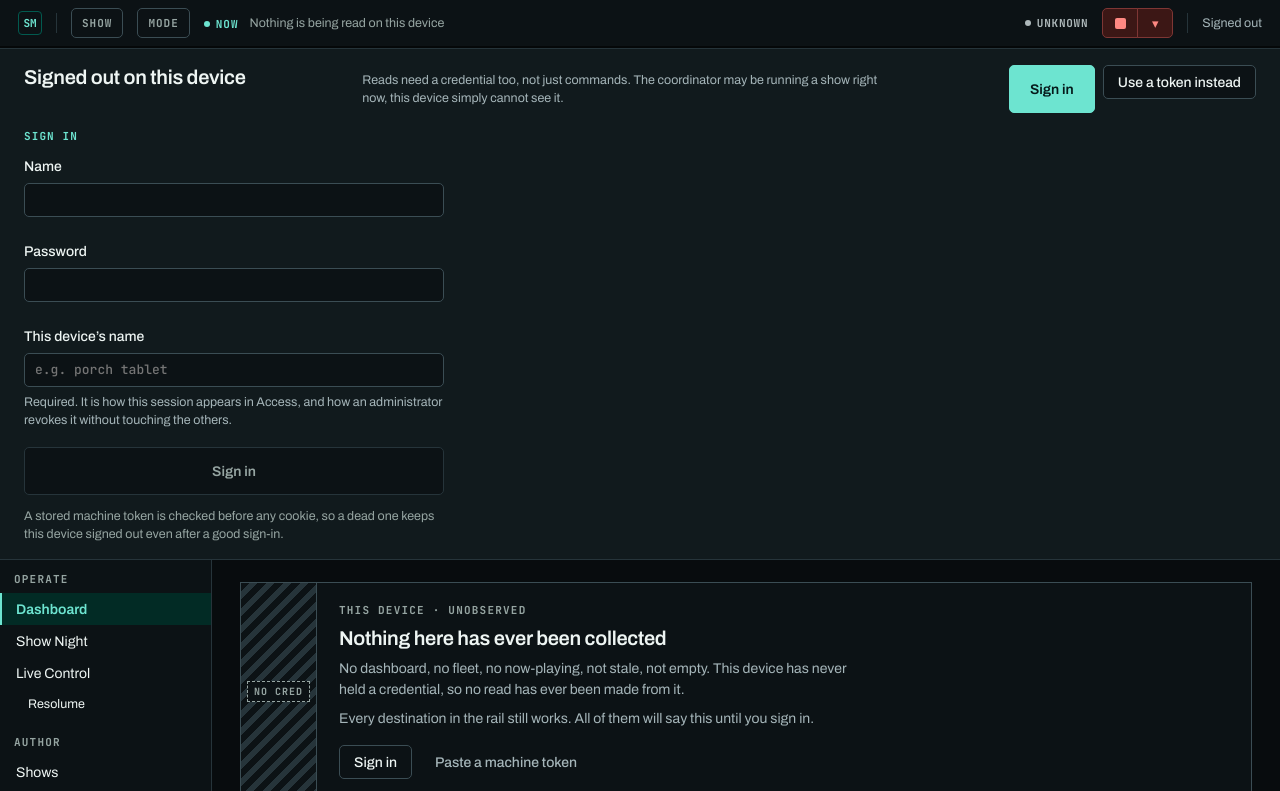
it: app shell › renders the rate-limit refusal as a headline naming the wait plus its explanation
Type "operator-a" into the field labelled "Name". click: {"x": 234, "y": 200}
box: [24,183,444,217]
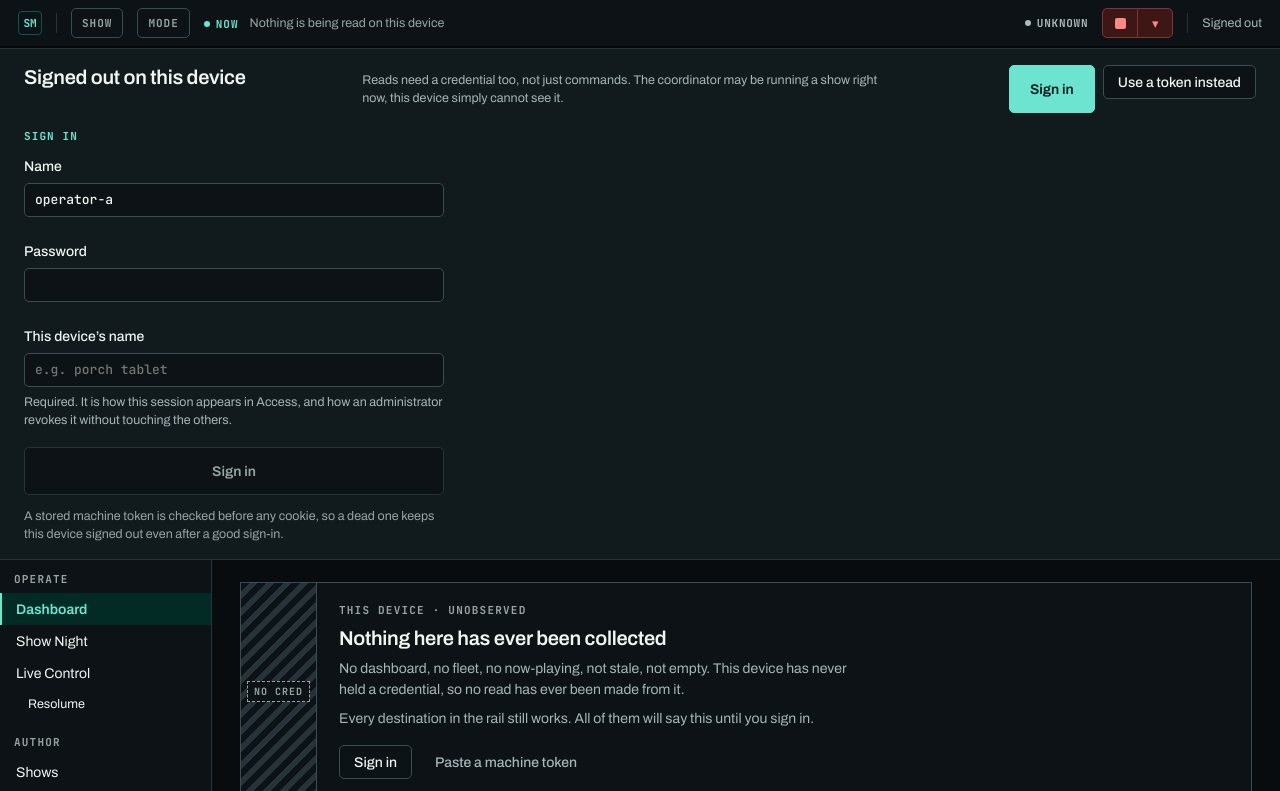
Type "hunter2" into the password field labelled "Password". click: {"x": 234, "y": 285}
box: [24,268,444,302]
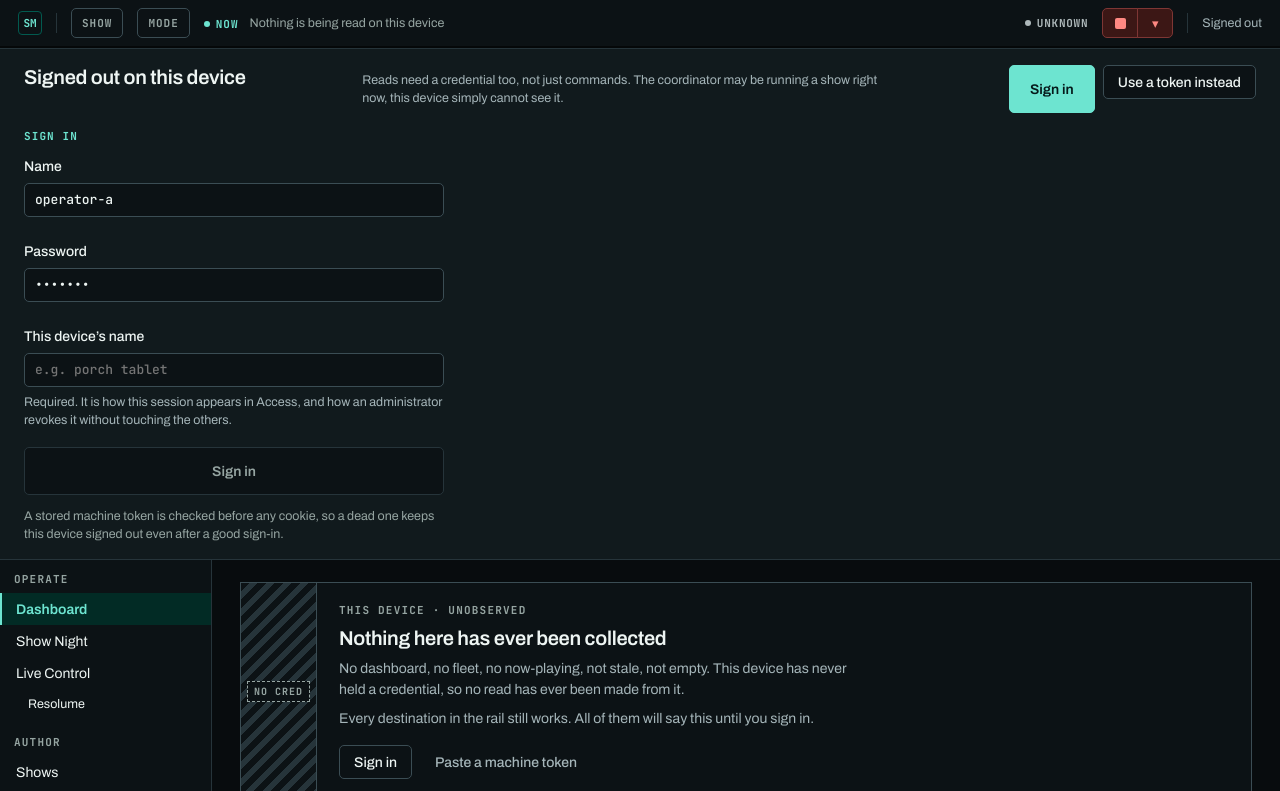
Type "porch tablet" into the field labelled "This device’s name". click: {"x": 234, "y": 370}
box: [24,353,444,387]
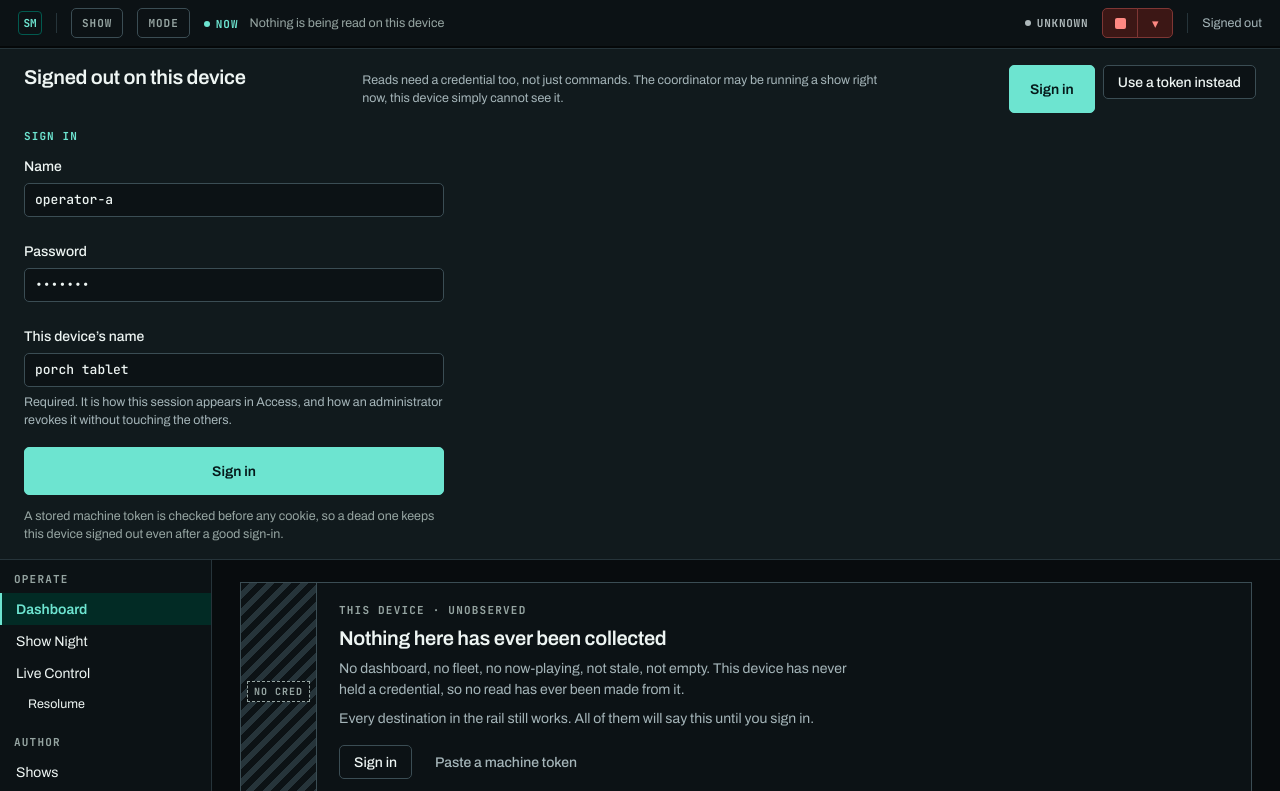
Click the button "Sign in" below "This device’s name". click: {"x": 234, "y": 471}
box: [24,447,444,495]
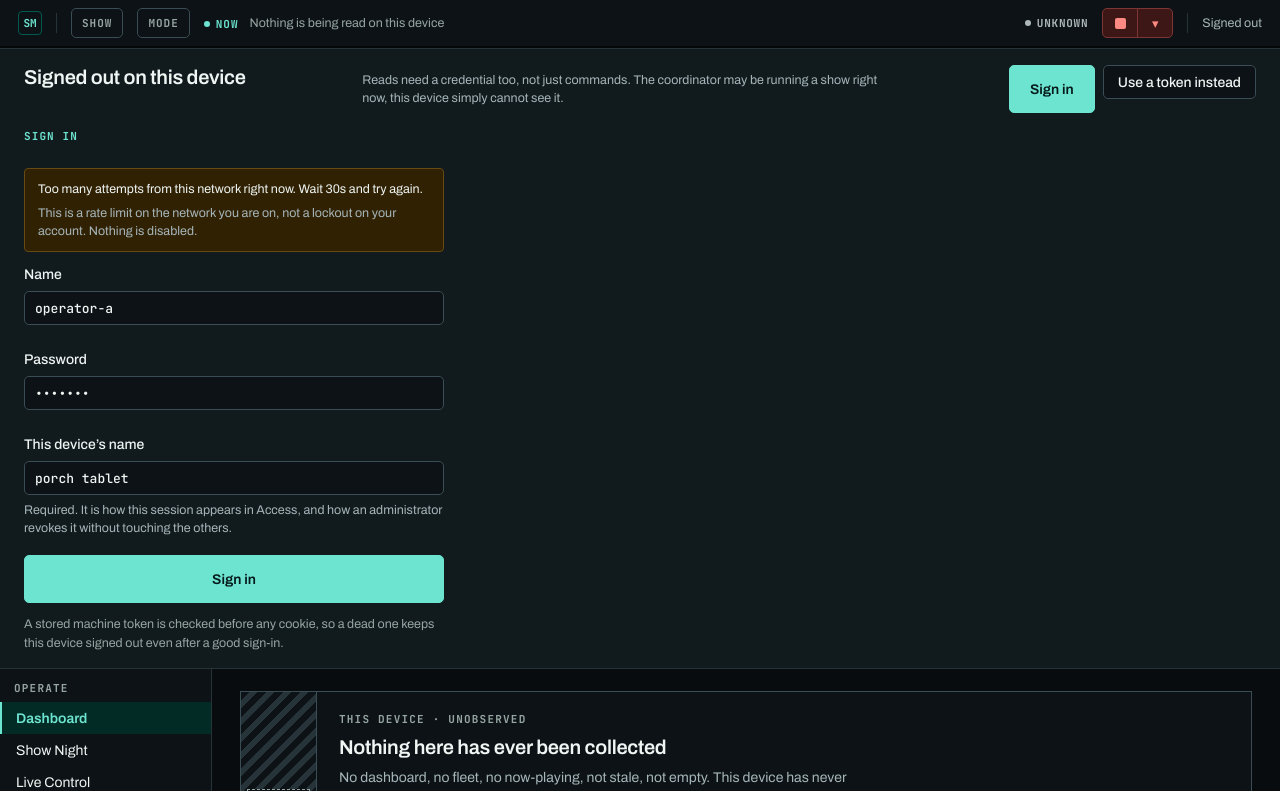
Check: the message shows "Wait 30s and try again.", box [38,182,423,196]
Check: the message shows "This is a rate limit on the network you are on, not a lockout on your account.", box [38,206,396,238]
